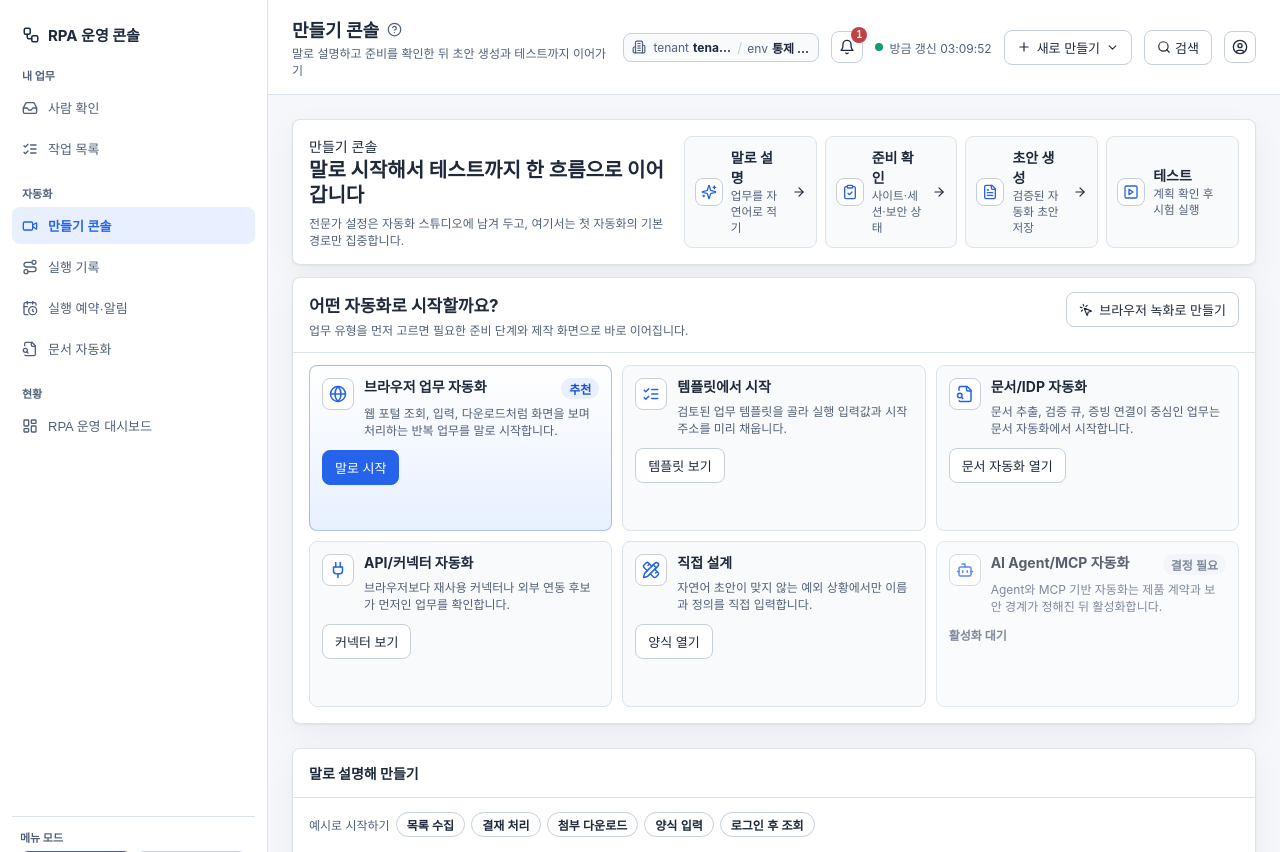
AI 생성기 예시 프롬프트 칩 › 칩 클릭 시 자연어 요청 textarea가 예시 문장으로 채워진다
Click the button with aria-label "예시 프롬프트 채우기: 결재 처리" at [506, 824], box [471,812,541,837]
(page scrolled)
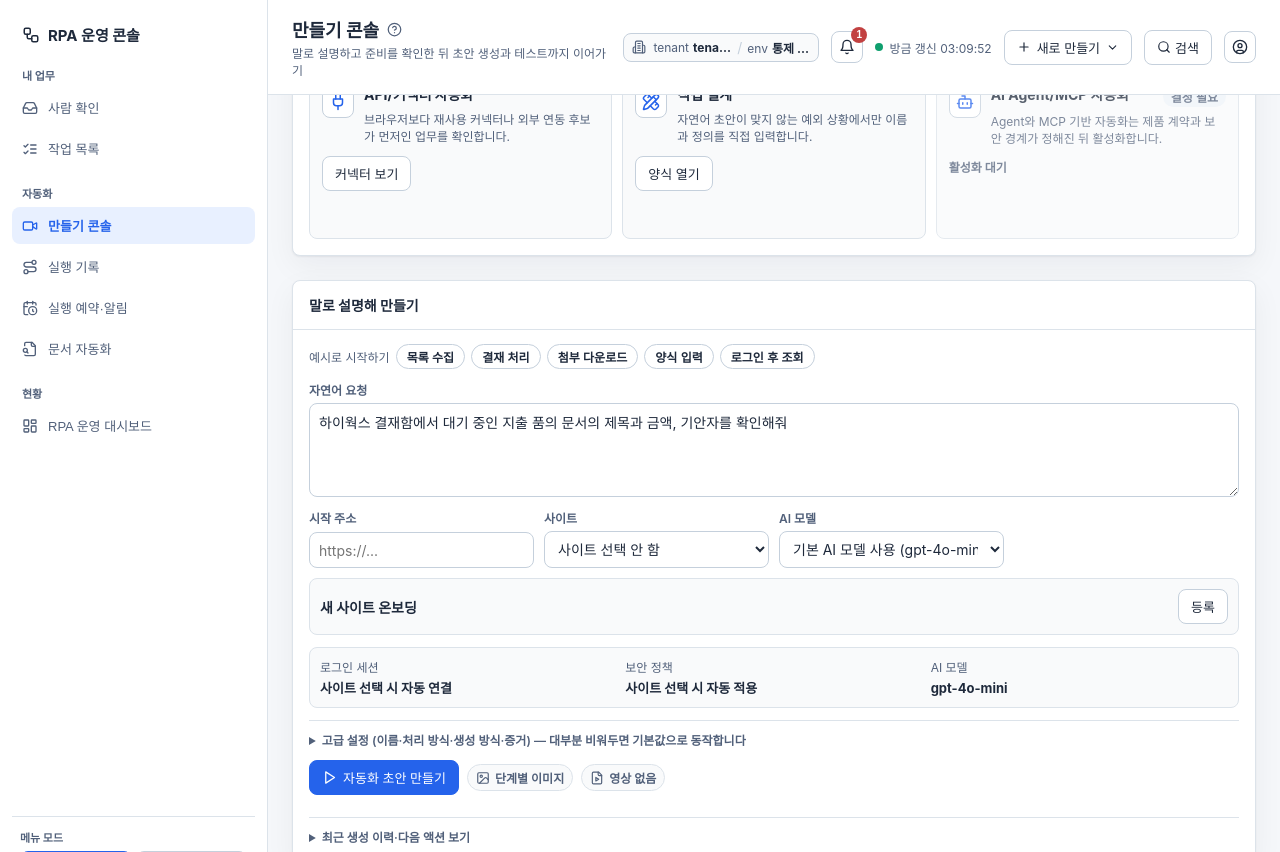
Expected: the text box labelled "자연어 요청" does not hold "예: https://example.com 에서 오늘 신규 주문 목록을 확인하고 요약해줘", [309,403,1239,497]
